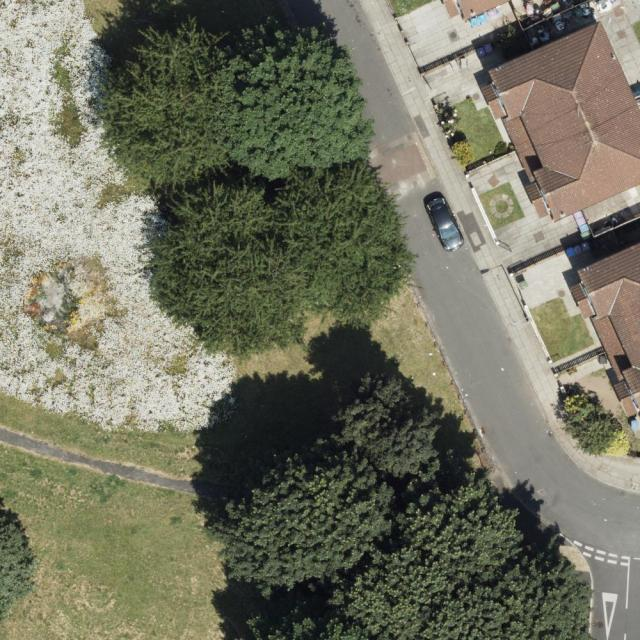roof: (473, 22, 640, 224), (563, 244, 640, 419), (440, 0, 510, 27)
